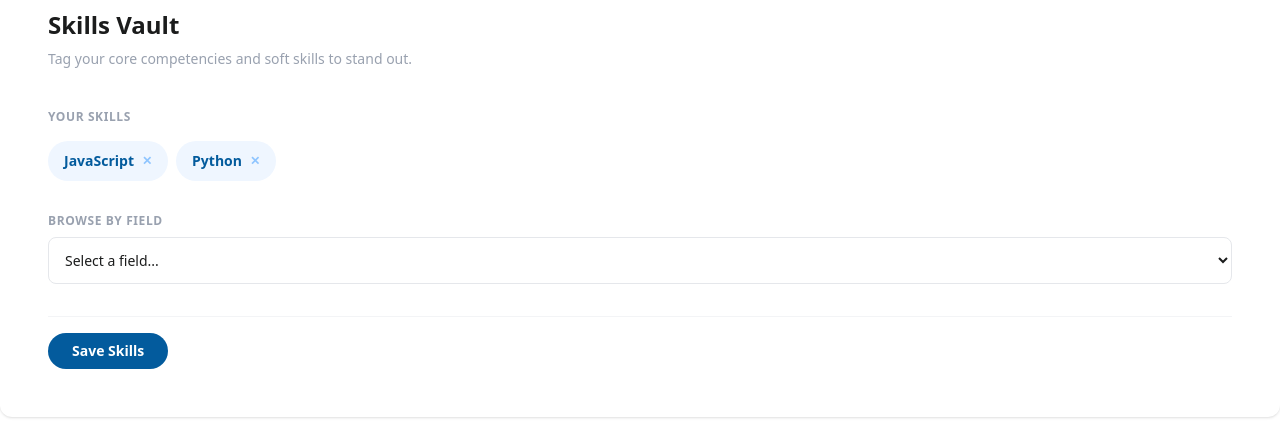
Scenario: SkillsSection › removes a skill when ✕ is clicked
Expected: the text "JavaScript" is shown, [64,151,134,171]
Click the button "✕" next to "JavaScript": (147, 161) [142,153,152,169]
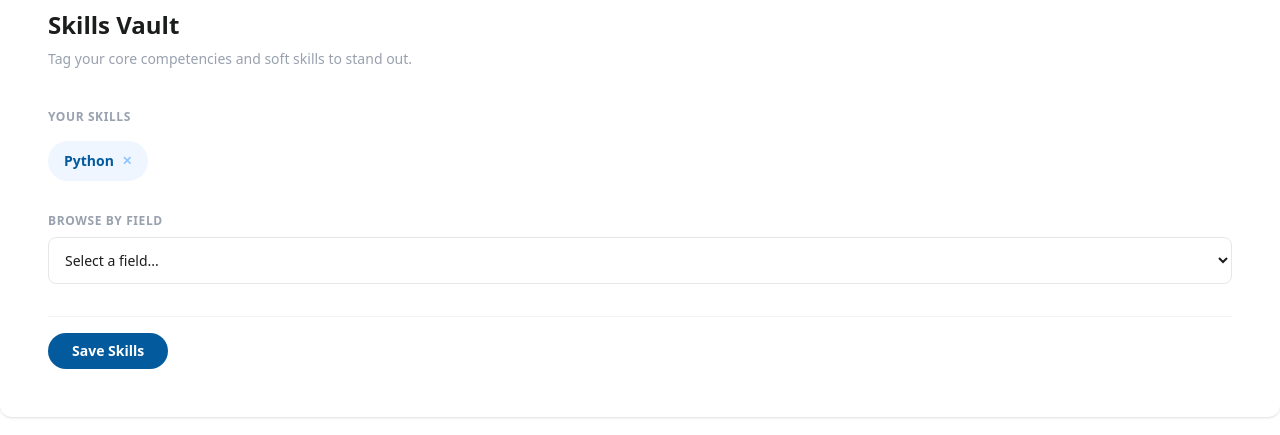
Now the text "JavaScript" is gone
